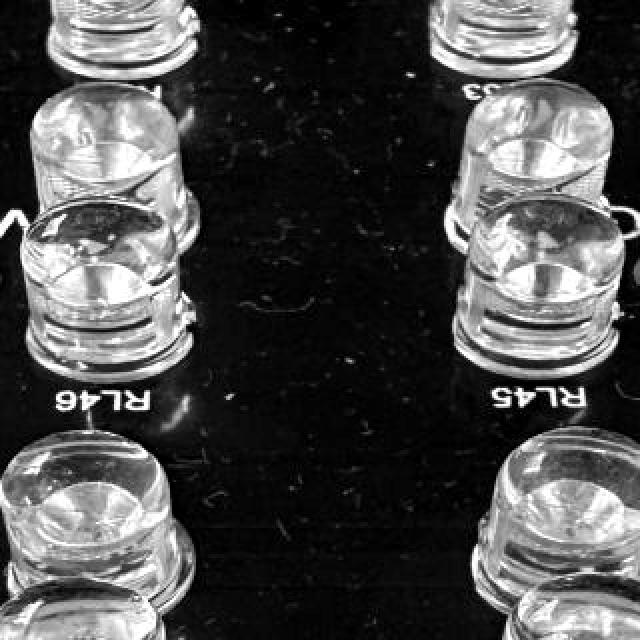led: (15, 196, 207, 386), (445, 193, 635, 381), (40, 0, 202, 78), (0, 576, 190, 640), (432, 0, 582, 76), (484, 568, 640, 640)
